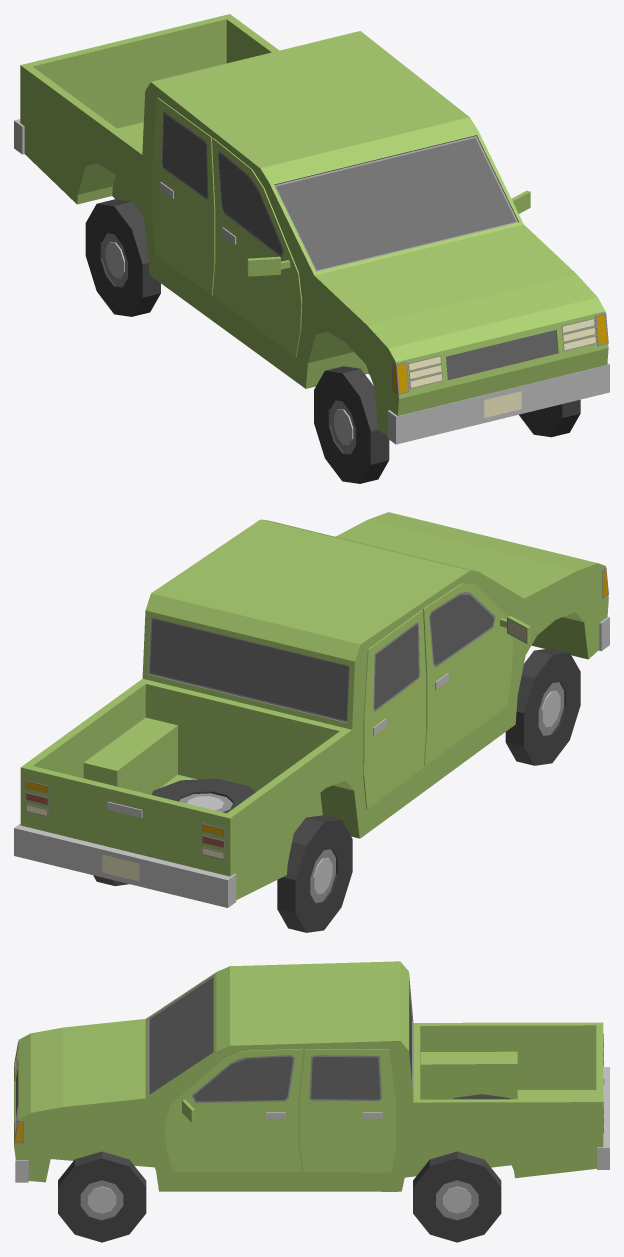
The model's file is pickup_2.fbx.
3 renders of one model, top to bottom at view 1: azimuth 30°, elevation 25°; view 2: azimuth 150°, elevation 25°; view 3: azimuth 270°, elevation 25°, orthographic. The views are drawn at different scales.
Parts seen in each view (by area): view 1: df, Cylinder_2_3, Cylinder_2_1, Cylinder_2_2; view 2: df, Cylinder_2_1, Cylinder_2_3; view 3: df, Cylinder_2_2, Cylinder_2.
Part boxes in pixels (bbox=[...]): df: bbox=[14, 14, 609, 444]; Cylinder_2_3: bbox=[314, 366, 389, 483]; Cylinder_2_1: bbox=[85, 199, 160, 316]; Cylinder_2_2: bbox=[519, 399, 580, 437]; df: bbox=[14, 512, 609, 907]; Cylinder_2_1: bbox=[277, 815, 352, 932]; Cylinder_2_3: bbox=[505, 648, 580, 765]; df: bbox=[14, 961, 609, 1191]; Cylinder_2_2: bbox=[58, 1151, 146, 1242]; Cylinder_2: bbox=[413, 1151, 501, 1242].
Size of the model in its own units: 156 by 137 by 367.
